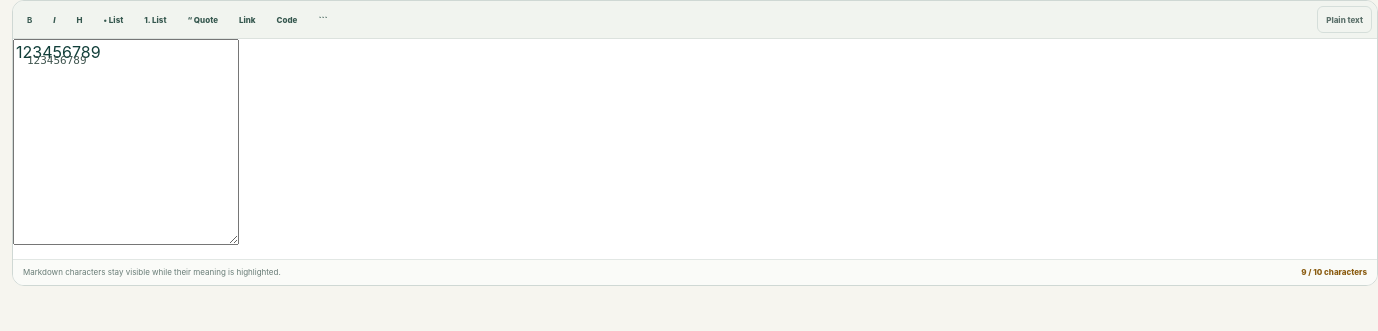
MarkdownNoteEditor › shows the character limit and blocks toolbar overflow
Expected: the text "9 / 10 characters" is shown, [1301,267,1367,278]
Click the button named "Bold": (30, 20) [18,6,41,33]
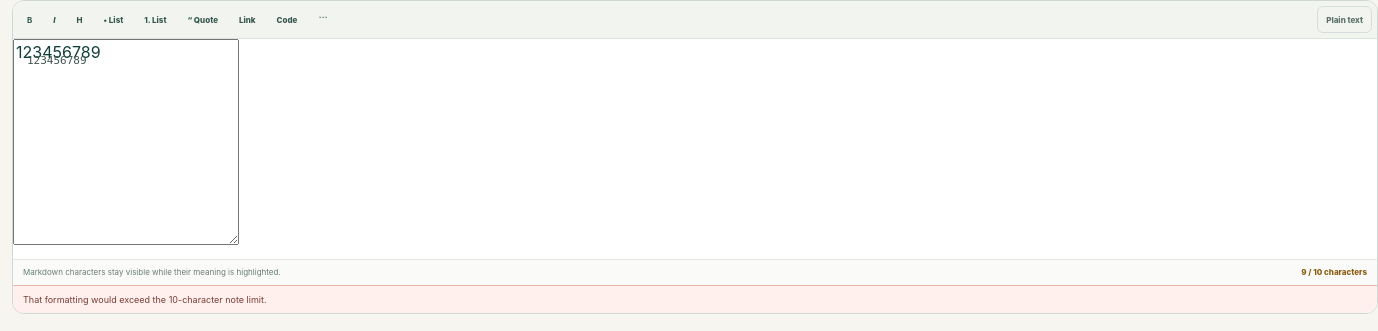
Expected: the text box named "Note body" holds "123456789", [13,39,239,245]
Now the message shows "exceed the 10-character note limit", box [23,294,267,305]
